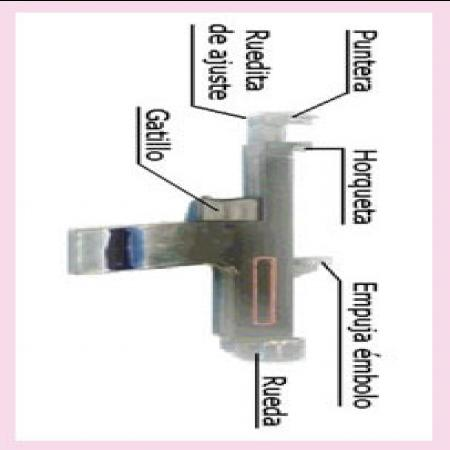Pistol: (67, 106, 319, 370)
